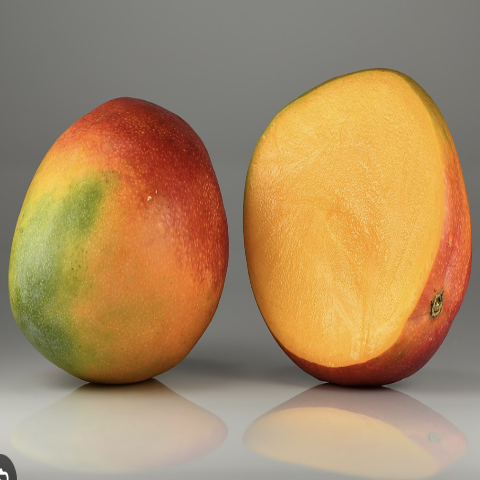mango: (239, 52, 477, 421), (3, 92, 234, 415)
